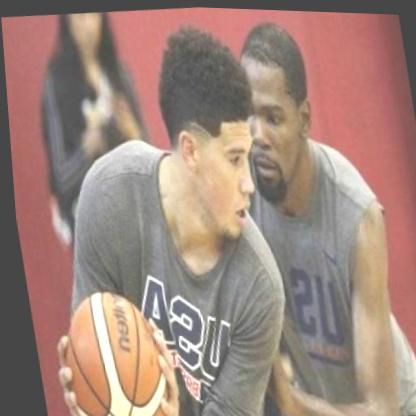basketball: (43, 275, 176, 416)
